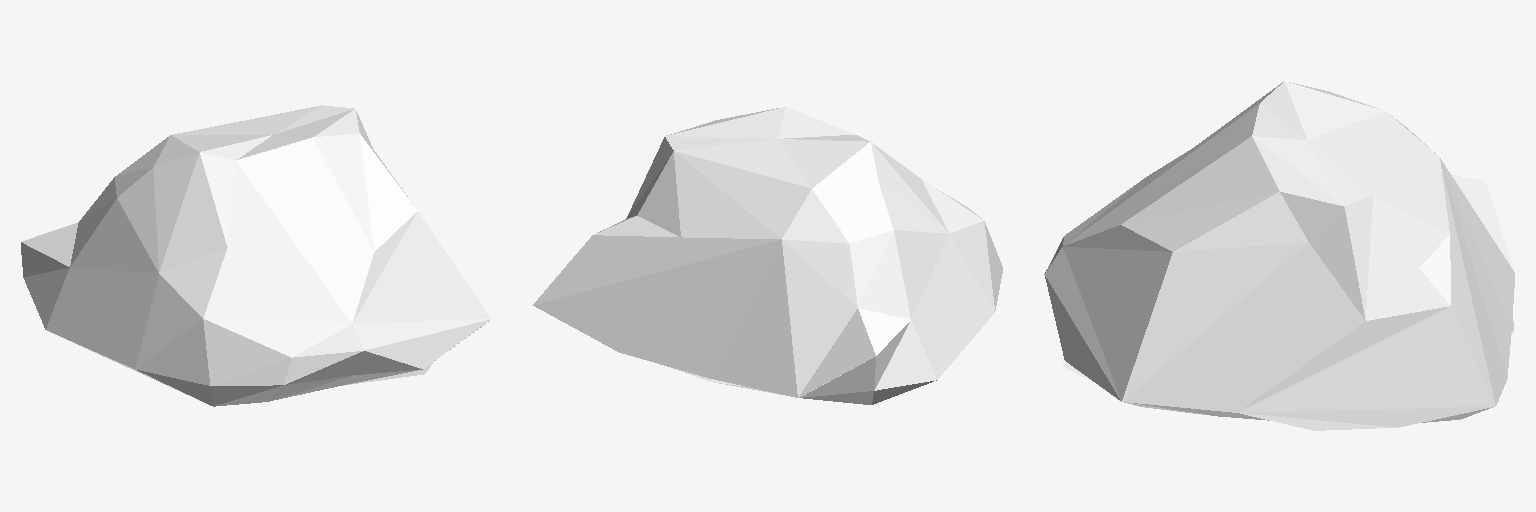
robot.urdf — rock:
<?xml version="1.0"?>
<robot name="rock">
  <link name="base_link">
    <visual>
      <origin xyz="0 0 0"/>
      <geometry>
        <mesh filename="package://hpp-rbprm-corba/meshes/rock.stl"/>
      </geometry>
      <material name="white">
        <color rgba="1 1 1 1"/>
      </material>
    </visual>
    <collision>
      <origin xyz="0 0 0"/>
      <geometry>
        <mesh filename="package://hpp-rbprm-corba/meshes/rock.stl"/>
      </geometry>
    </collision>
  </link>
</robot>

--- Facts derived from the render (not from the file) ---
The picture shows the robot from 3 angles, left to right: view 1: azimuth 30°, elevation 25°; view 2: azimuth 150°, elevation 25°; view 3: azimuth 270°, elevation 25°; orthographic projection.
Robot: rock — 1 links, 0 joints (none); root link base_link; default pose: every joint at zero.
Visible links, largest first — view 1: base_link; view 2: base_link; view 3: base_link.
Link boxes in pixels (x1,y1,x2,y2): base_link: [21, 105, 490, 406]; base_link: [533, 107, 1002, 404]; base_link: [1044, 81, 1514, 430].
Size in the robot's own frame: 1.1 by 1.07 by 0.5583 metres.
Meshes: 1 distinct files referenced, 1 mesh visuals loaded (1 binary STL).